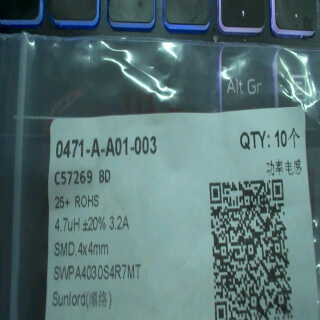4.7uH: (55, 209, 85, 234)
